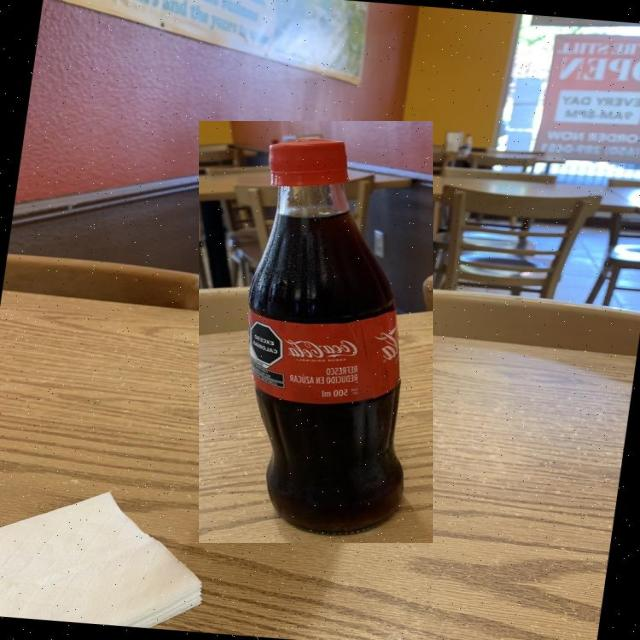coca-cola: (200, 121, 433, 543)
